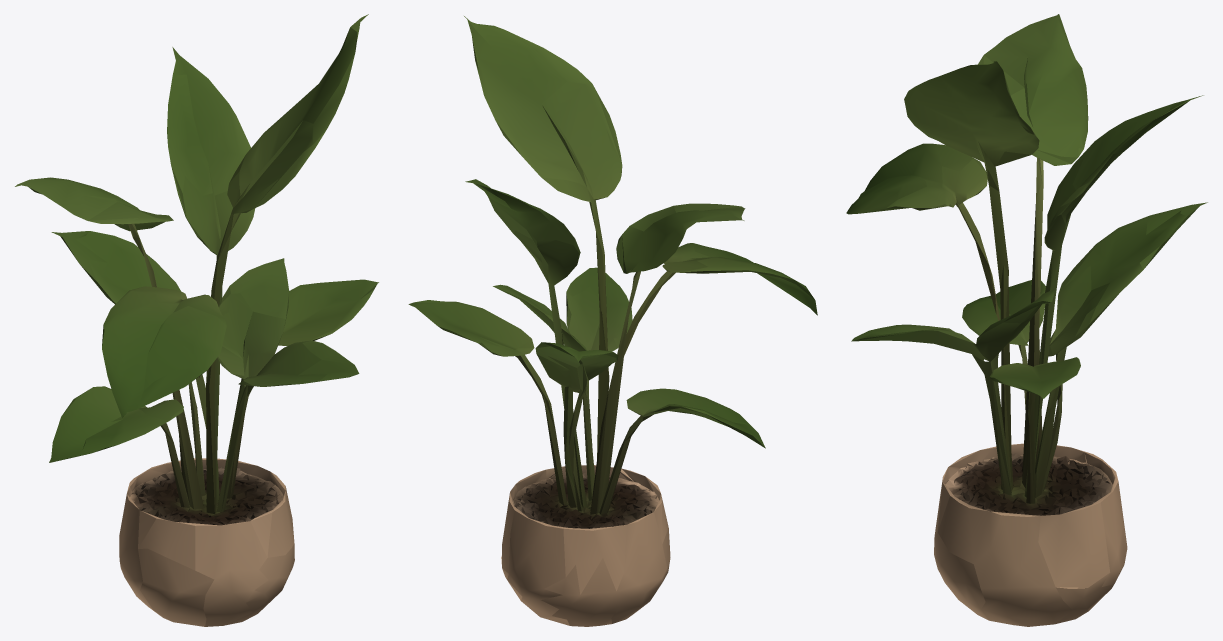
File: plant.glb
3 views of the same model, side by side, from view 1: azimuth 30°, elevation 25°; view 2: azimuth 150°, elevation 25°; view 3: azimuth 270°, elevation 25° (orthographic). The views are drawn at different scales.
Bounding box in the file's own units: 1.26 × 1.9 × 1.01.
